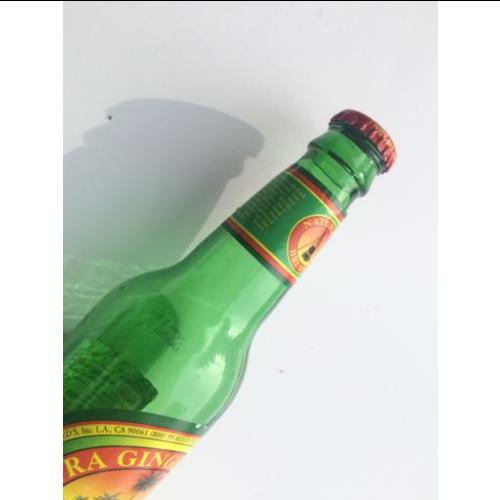glass: (63, 115, 392, 499)
